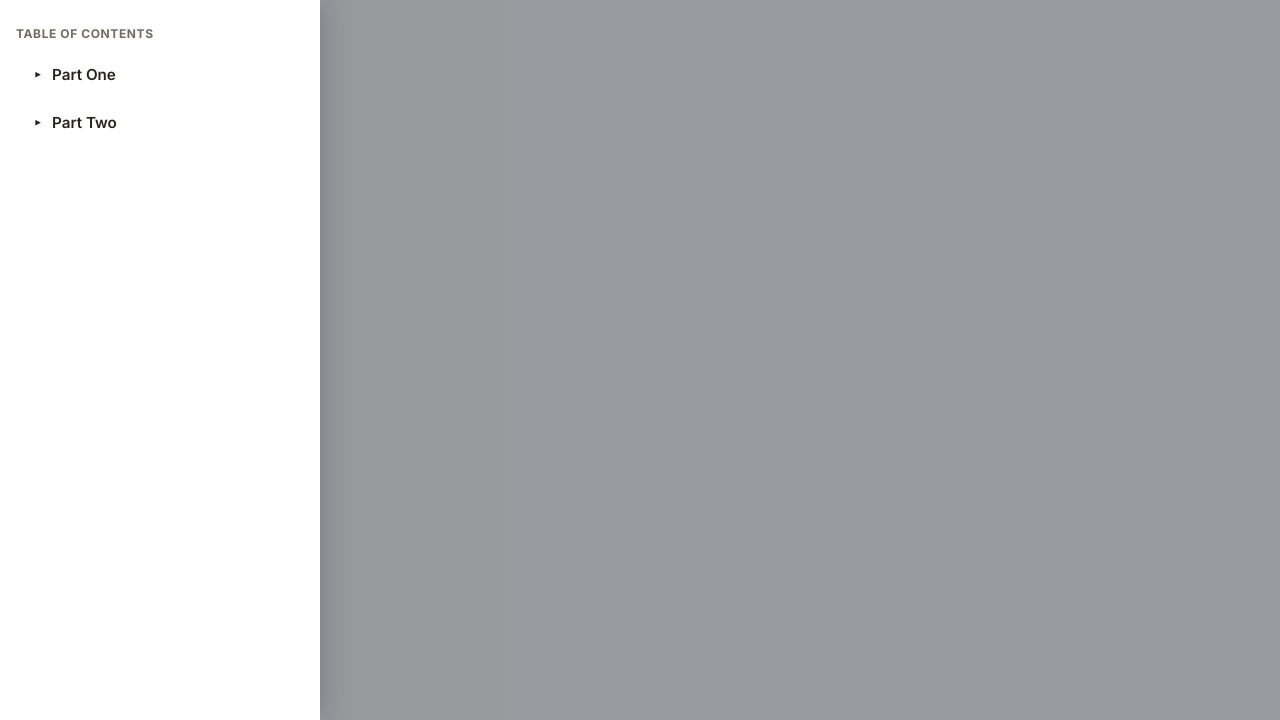
it: ReaderToc tree mode › toggles a branch open and closed from its disclosure control
Expected: the button "Chapter One" is not shown
Click the button named "Expand Part One": (38, 74) [16,52,60,96]
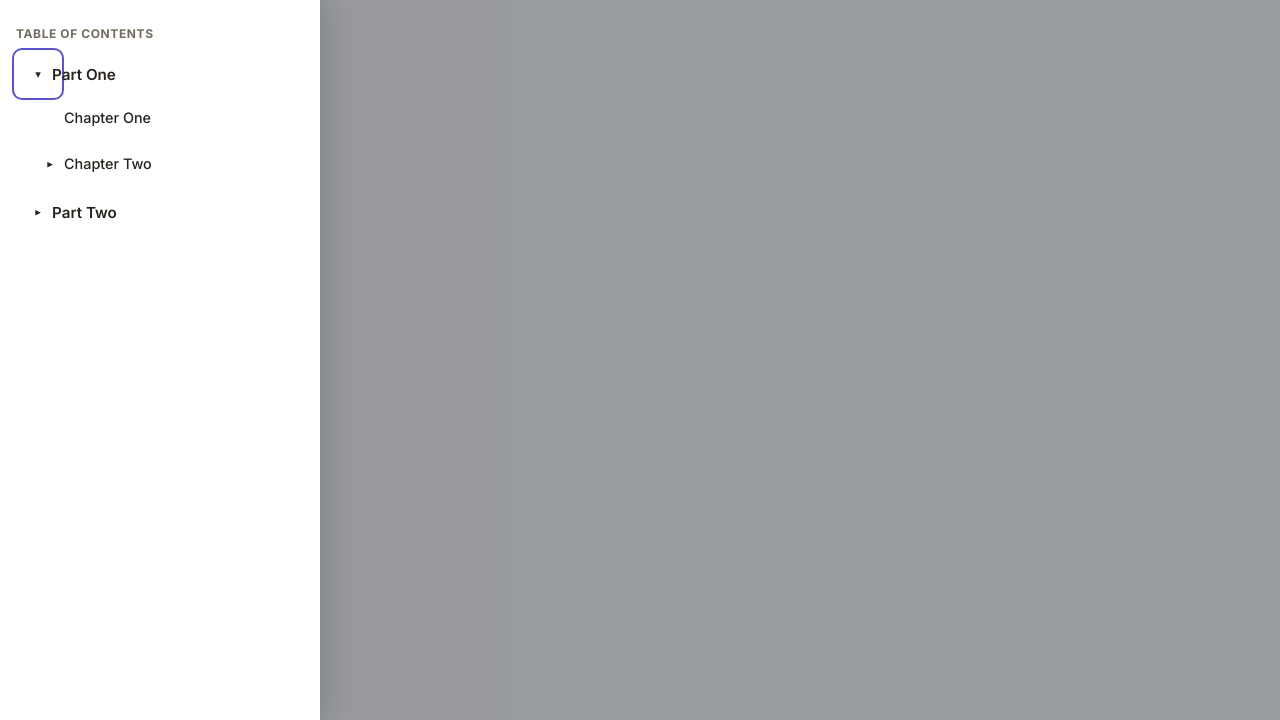
Result: the button "Chapter One" is shown at [56,96,304,140]
Click the button named "Collapse Part One": (38, 74) [16,52,60,96]
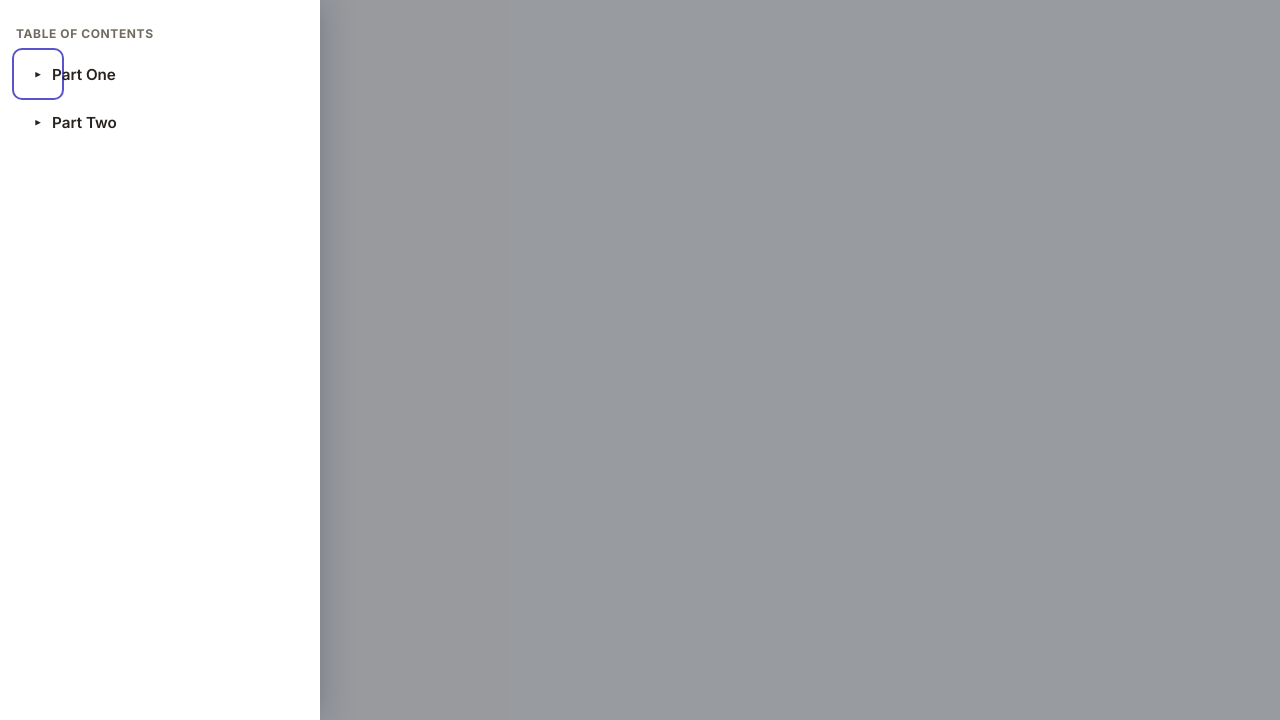
Result: the button "Chapter One" is gone
